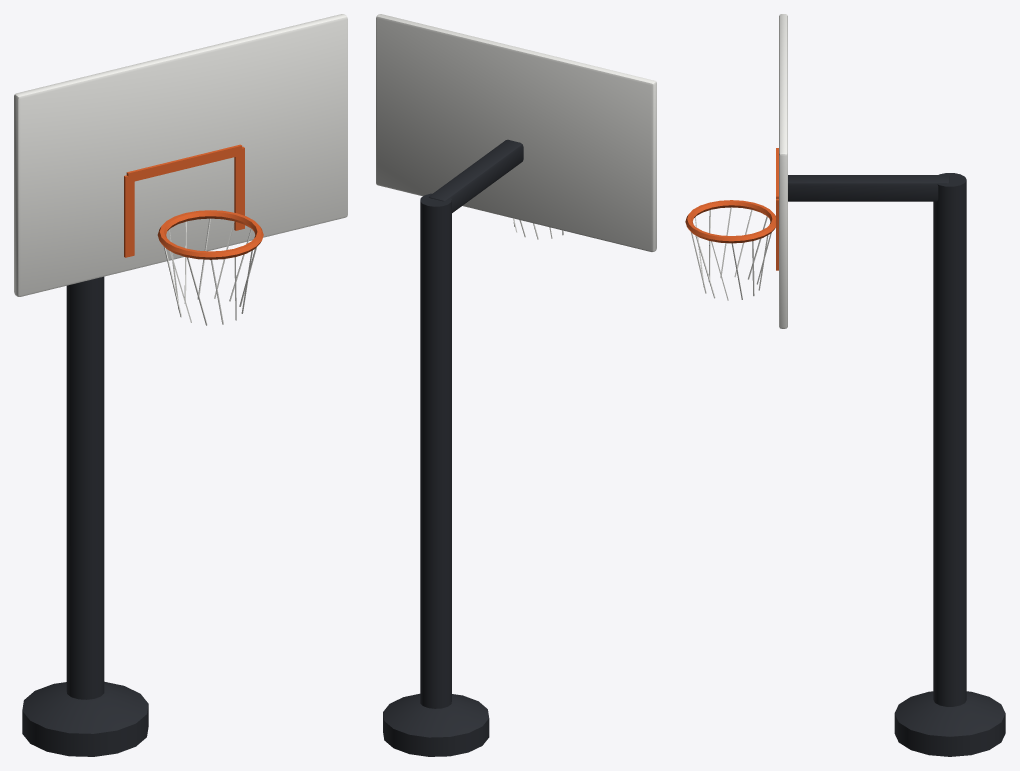
The model's file is tabela-de-basquete.glb.
3 renders of one model, left to right at view 1: azimuth 30°, elevation 25°; view 2: azimuth 150°, elevation 25°; view 3: azimuth 270°, elevation 25°, orthographic. The views are drawn at different scales.
Visible parts, largest first — view 1: tabela, poste, base, aro, quadrado, quadrado-lado, quadrado-lado.001; view 2: tabela, poste, base, braco; view 3: poste, base, braco, tabela, aro.
Part boxes in pixels (left/top/right/bottom): tabela: left=14, top=14, right=347, bottom=296; poste: left=66, top=276, right=104, bottom=699; base: left=22, top=681, right=148, bottom=756; aro: left=157, top=210, right=263, bottom=259; quadrado: left=126, top=144, right=242, bottom=182; quadrado-lado: left=124, top=175, right=134, bottom=257; quadrado-lado.001: left=234, top=146, right=244, bottom=230; tabela: left=376, top=14, right=656, bottom=252; poste: left=420, top=193, right=451, bottom=708; base: left=383, top=693, right=489, bottom=756; braco: left=429, top=139, right=523, bottom=212; poste: left=933, top=173, right=966, bottom=706; base: left=894, top=691, right=1005, bottom=756; braco: left=788, top=175, right=949, bottom=201; tabela: left=779, top=14, right=787, bottom=328; aro: left=685, top=200, right=775, bottom=243.
Bounding box in the file's own units: 1.8 × 3.87 × 1.73.
